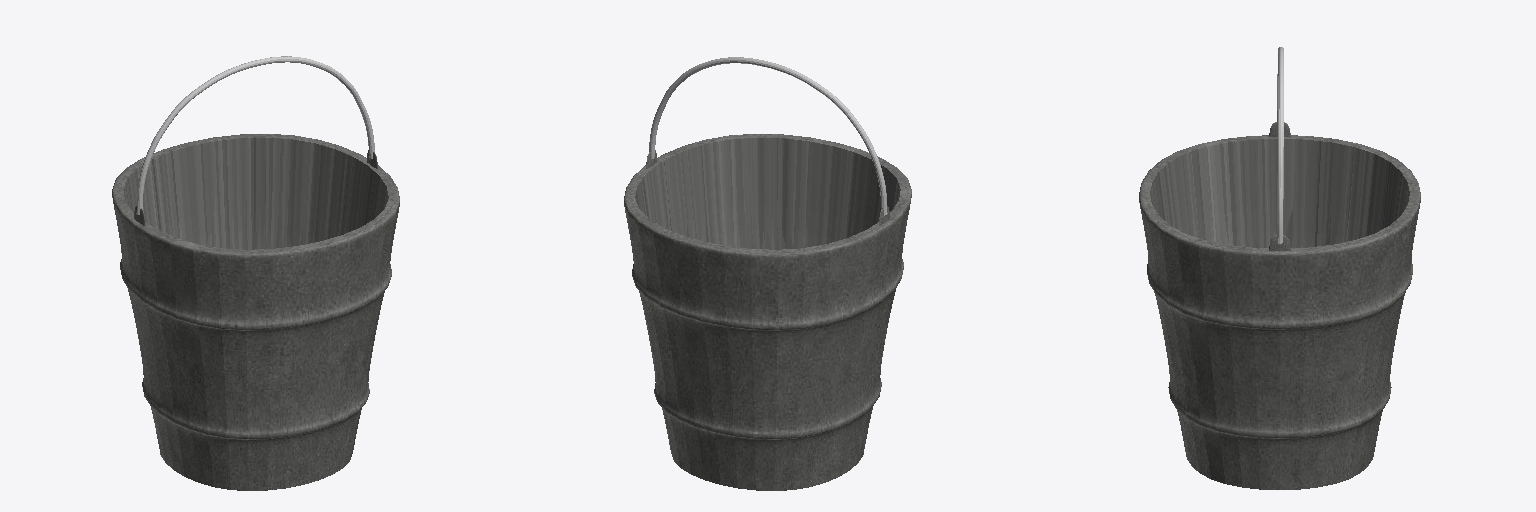
The picture shows the model from 3 angles: view 1: azimuth 30°, elevation 25°; view 2: azimuth 150°, elevation 25°; view 3: azimuth 270°, elevation 25°; orthographic projection.
Visible parts, largest first — view 1: Cube, Point; view 2: Cube, Point; view 3: Cube, Point.
Boxes of the visible parts, <box> form: Cube: <box>112,134,399,490</box>; Point: <box>136,56,374,214</box>; Cube: <box>624,134,911,490</box>; Point: <box>649,57,887,215</box>; Cube: <box>1139,135,1420,489</box>; Point: <box>1277,47,1283,243</box>.
Size of the model in its own units: 1.82 by 2.77 by 1.82.
Materials: 1 (1 with a texture image).